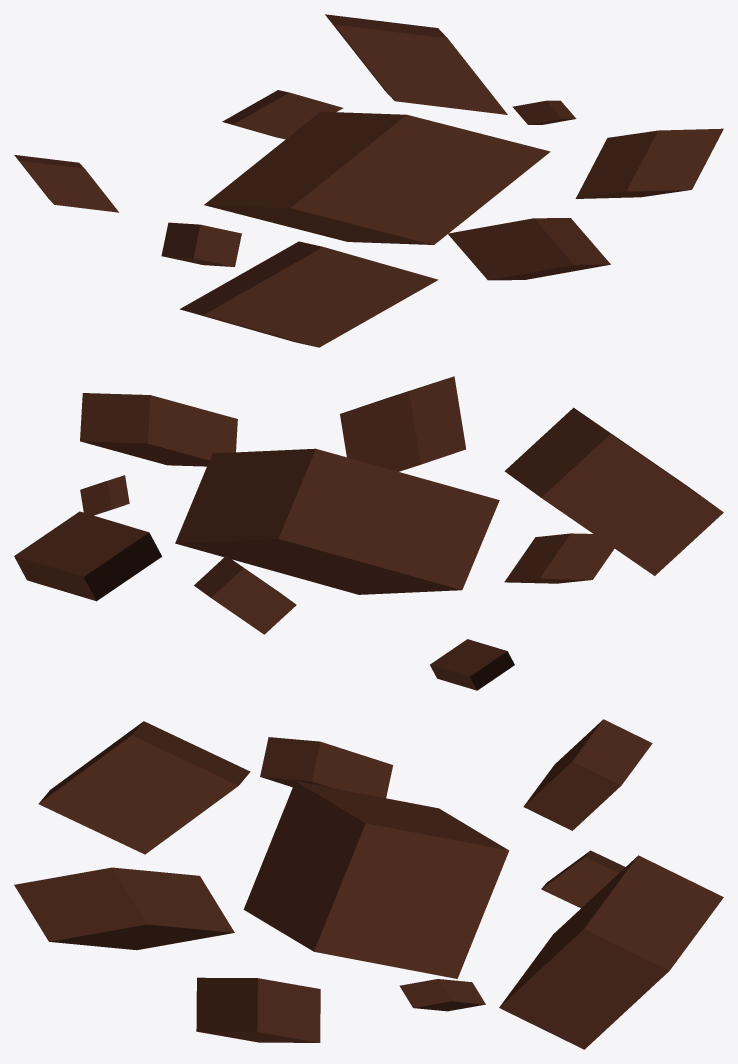
The model's file is Seeds.fbx.
The picture shows the model from 3 angles, top to bottom: view 1: azimuth 30°, elevation 25°; view 2: azimuth 150°, elevation 25°; view 3: azimuth 270°, elevation 25°; orthographic projection. The views are drawn at different scales.
Visible parts, largest first — view 1: sEEDS; view 2: sEEDS; view 3: sEEDS.
Boxes of the visible parts, x1=… form: sEEDS: x1=14, y1=14, x2=723, y2=347; sEEDS: x1=14, y1=376, x2=723, y2=690; sEEDS: x1=14, y1=719, x2=723, y2=1049.
Size of the model in its own units: 135 by 27.69 by 125.
